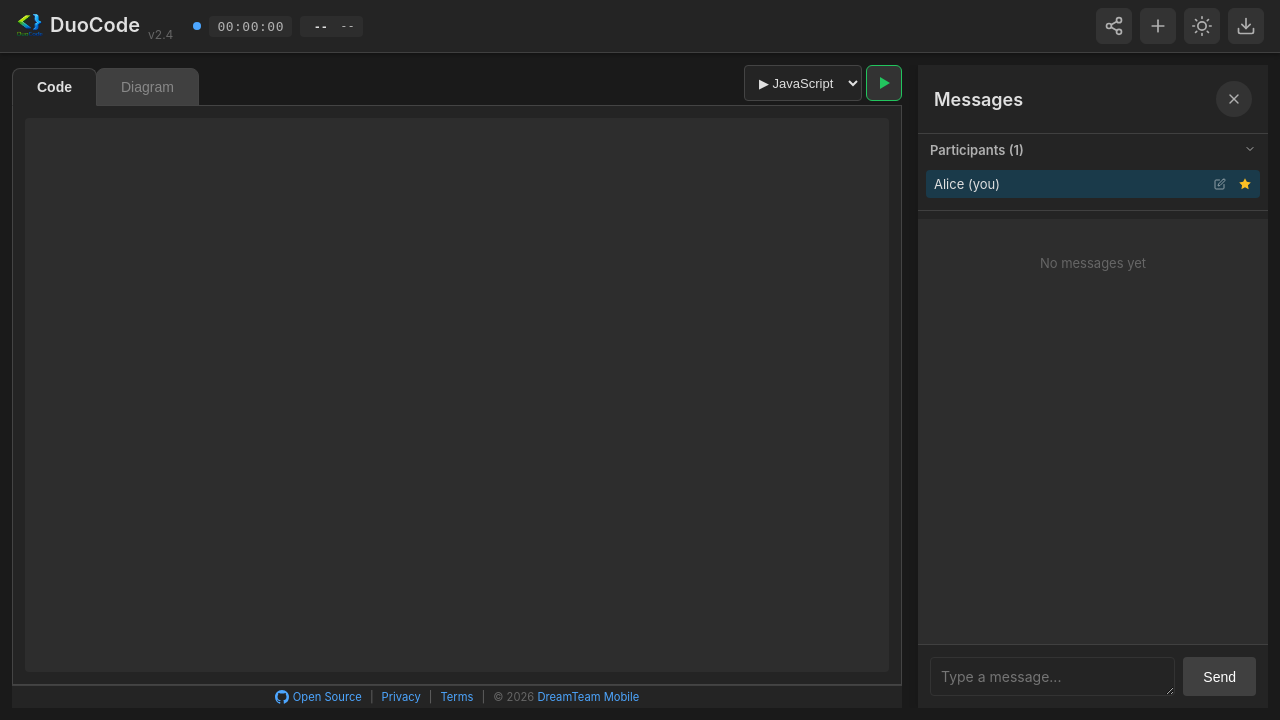
Test: Integration: Messages send and display › sends a message via button click
Type "Hello from Alice!" into the text box with id "messageText" at (1053, 676), box [930, 657, 1175, 696]
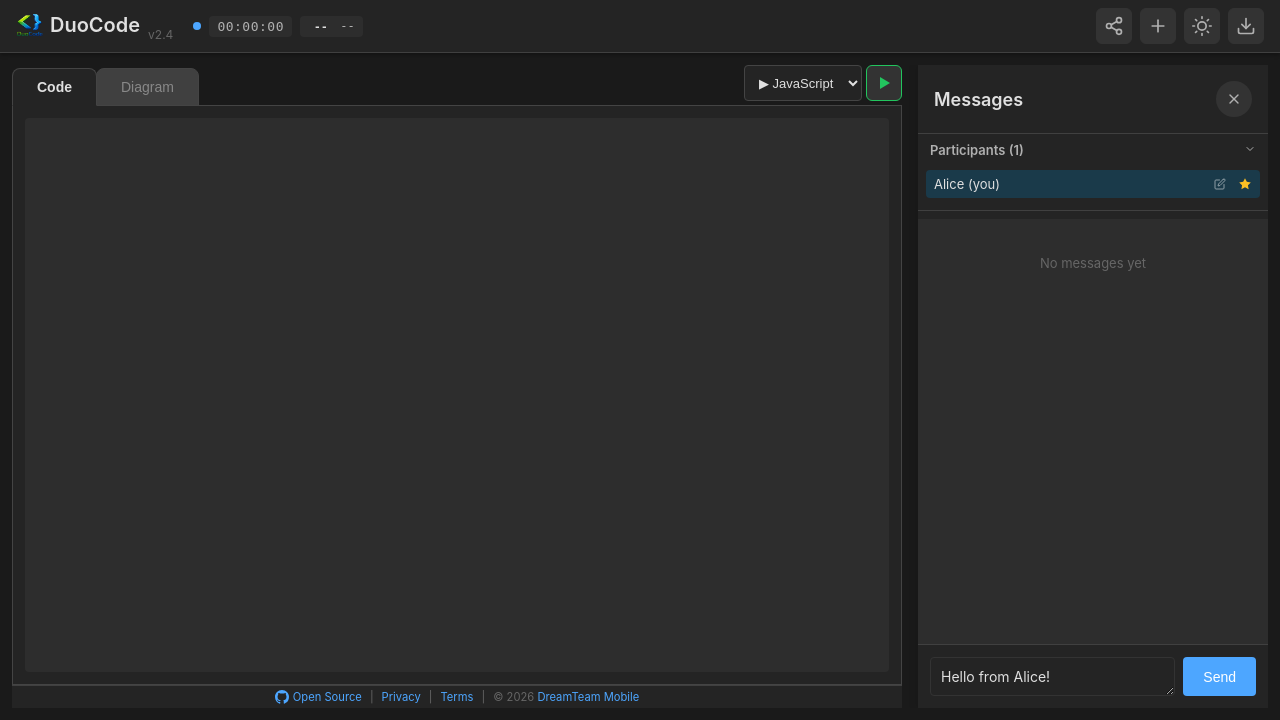
Click the button with id "sendMessageBtn" at (1220, 676), box [1183, 657, 1256, 696]
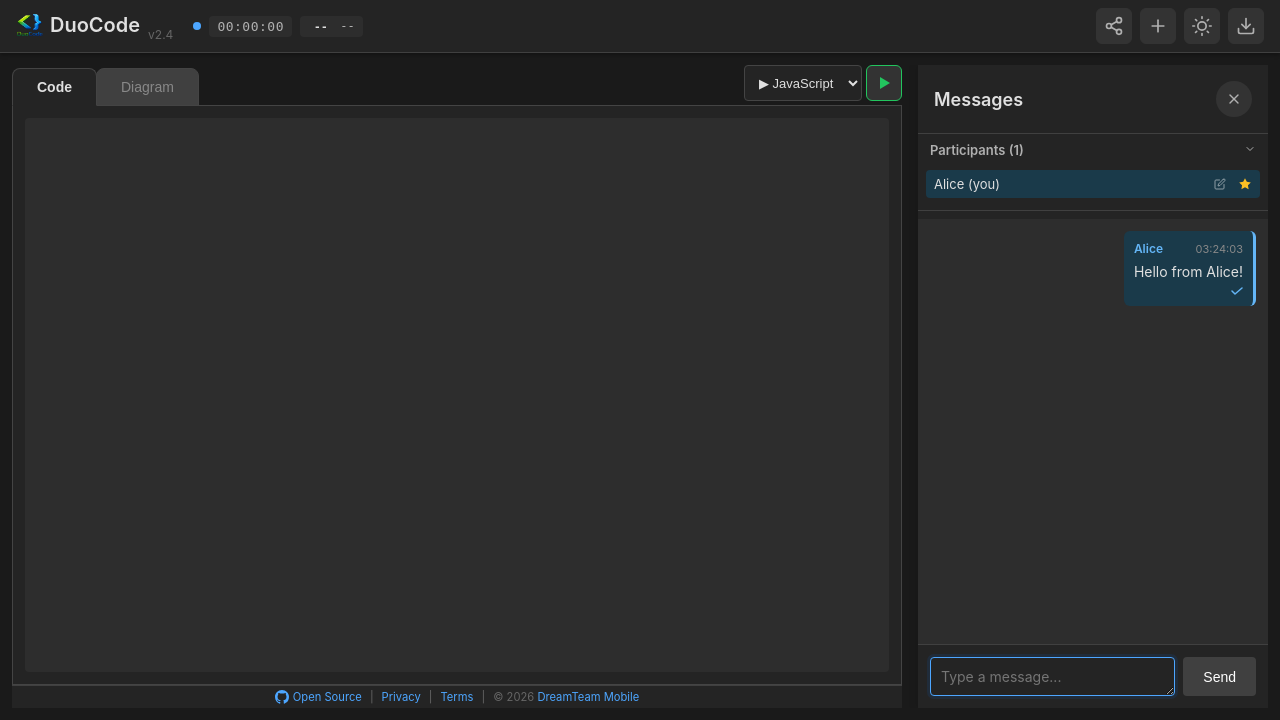
Expected: the text "Hello from Alice!" is shown, [1134, 262, 1243, 282]
Expected: the text "Alice" is shown, [1134, 241, 1163, 256]
